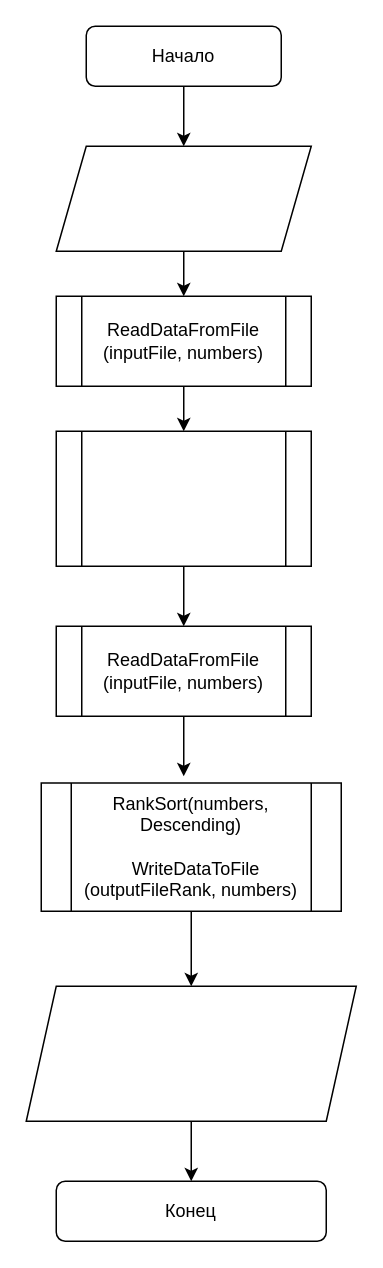
Image size: 383x1268. Some labels were removed from this diagram. Each missing label, with the centre of its shape:
BubbleSort(numbers, Descending) WriteDataToFile (outputFileBubble, numbers): point 183,498
Ввести inputFile,numbers, outputFileBubble, outputFileRank: point 183,198
Файлы сохранились в папки: outputFileBubble and outputFileRadix: point 190,1053
